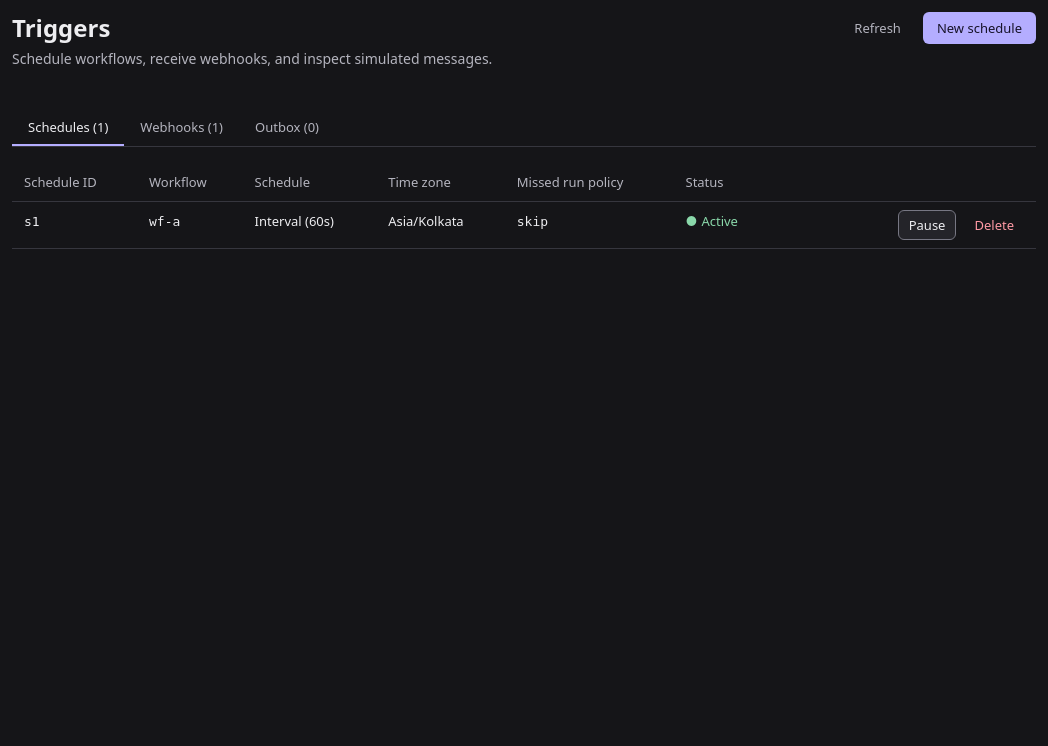
Scenario: Triggers › gives each tab its own primary and keeps the extra webhook tests under a disclosure
The image size is (1048, 746).
Expected: the row with test id "schedule-item-s1" shows "Asia/Kolkata", [388,212,464,230]
Expected: the element with test id "schedule-status-s1" shows "Active", [701,212,738,230]
Click the tab "Webhooks (1)" at (182, 128), box [124,110,239,146]
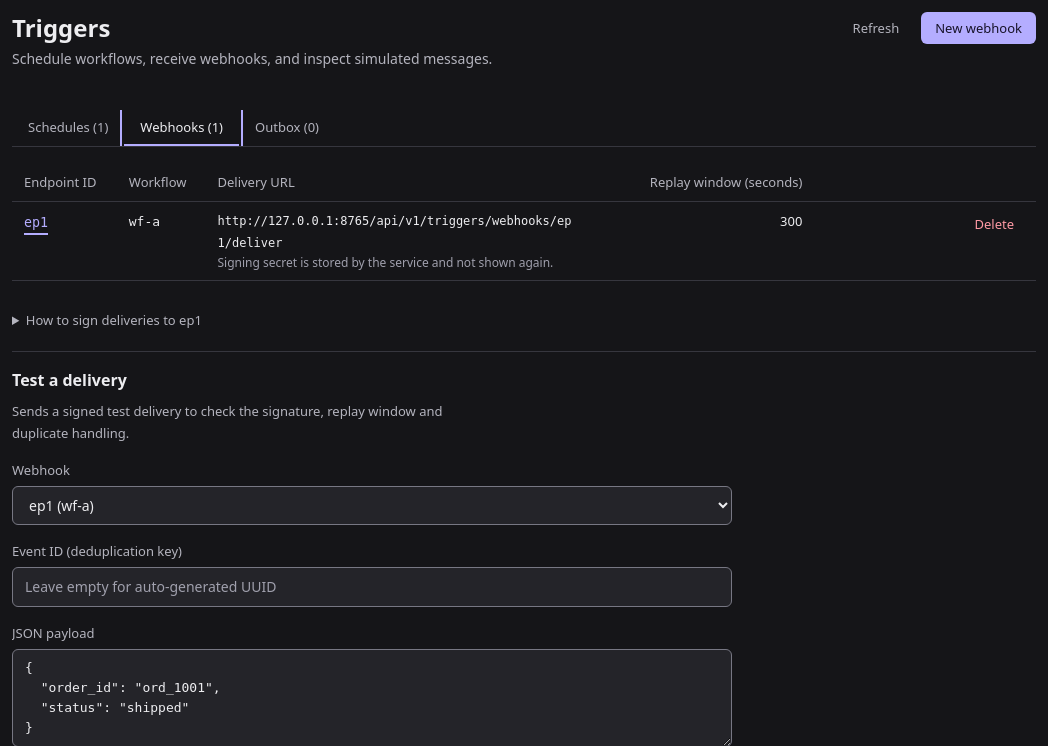
Click the tab "Outbox (0)" at (287, 128), box [239,110,335,146]
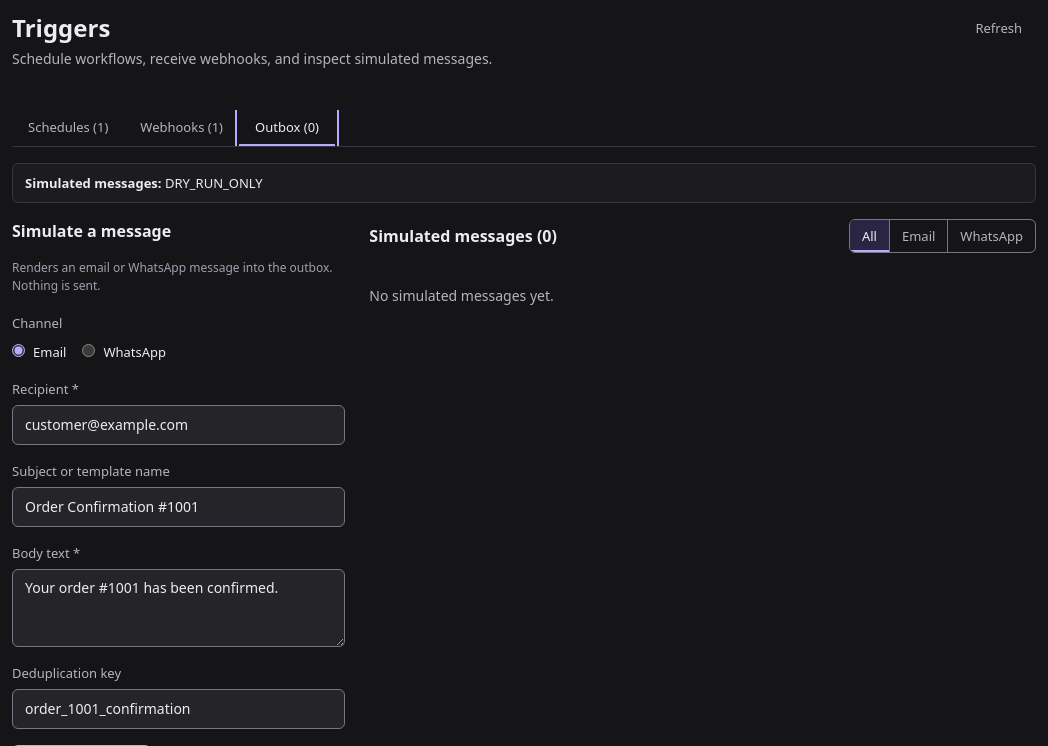
Result: the element with test id "outbox-mode" shows "DRY_RUN_ONLY" at [165,174,263,192]
